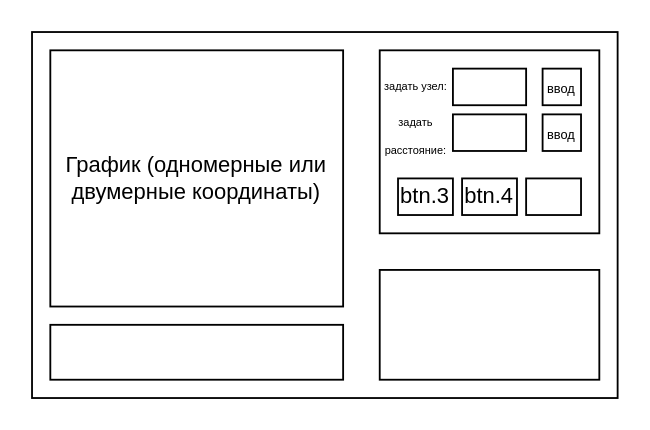
Image size: 650x430. Some labels were removed from this diagram. The shapes that lost their labels are listed below. From the top down, each one's box as (x1, y1, x2, y2) in pixels, then its label:
(378, 268, 599, 380): Консоль для real time информации
(48, 323, 343, 380): Кнопка: определение координат
